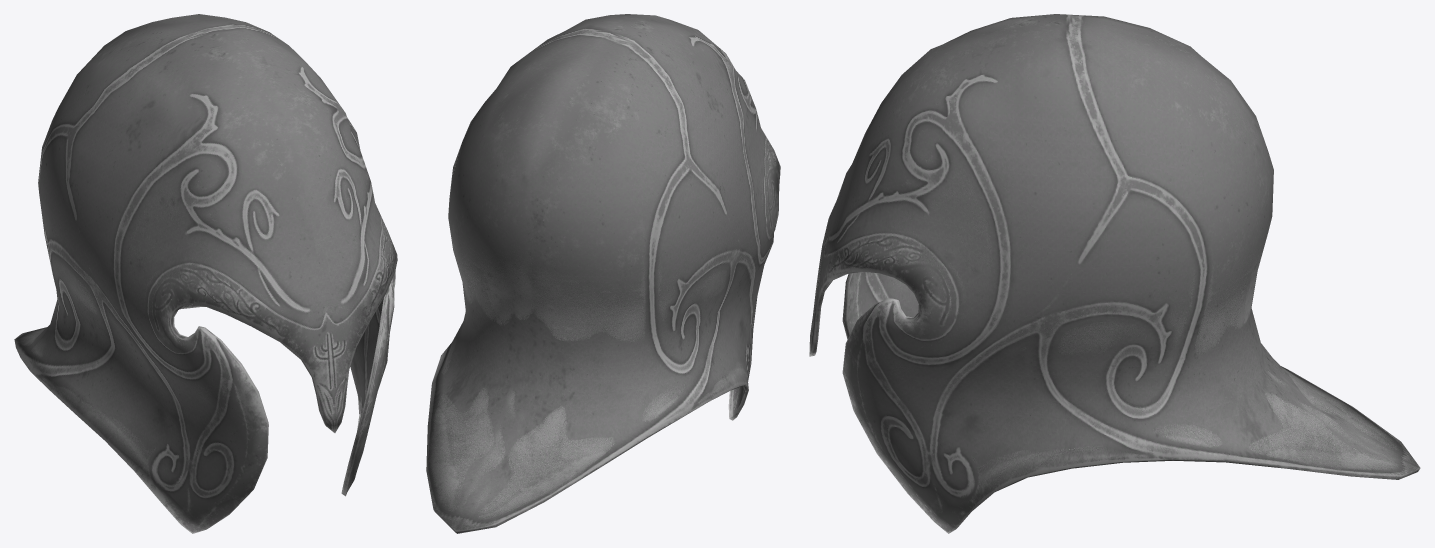
Rendered from rivendell_helmet_infantry_tier1_silver.fbx.
3 views of the same model, side by side, from view 1: azimuth 30°, elevation 25°; view 2: azimuth 150°, elevation 25°; view 3: azimuth 270°, elevation 25° (orthographic). The views are drawn at different scales.
Visible parts, largest first — view 1: rivendell_helmet_infantry_tier1_silver; view 2: rivendell_helmet_infantry_tier1_silver; view 3: rivendell_helmet_infantry_tier1_silver.
Boxes of the visible parts, box(x1,y1,x2,y2) form: rivendell_helmet_infantry_tier1_silver: box(14, 14, 397, 533); rivendell_helmet_infantry_tier1_silver: box(426, 14, 780, 533); rivendell_helmet_infantry_tier1_silver: box(809, 14, 1420, 533).
Bounding box in the file's own units: 0.2002 × 0.3655 × 0.3098.
Materials: 1 (1 with a texture image).
